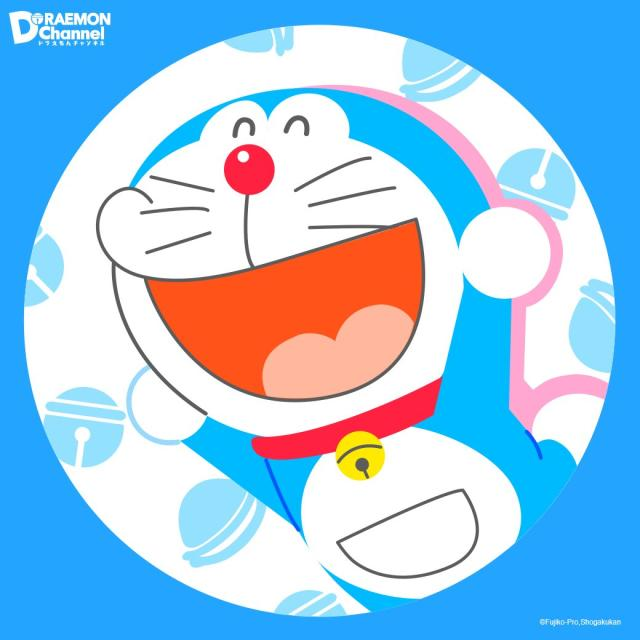doraemon: (81, 72, 588, 550)
